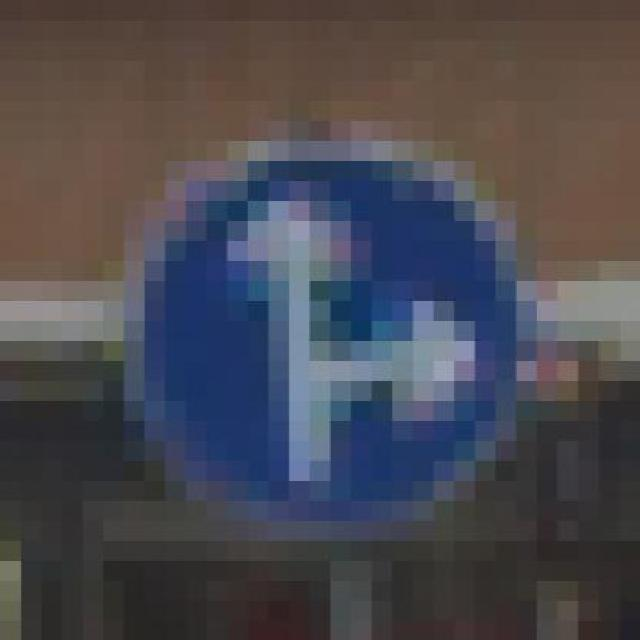Go Straight or Turn Right: (103, 80, 557, 560)
